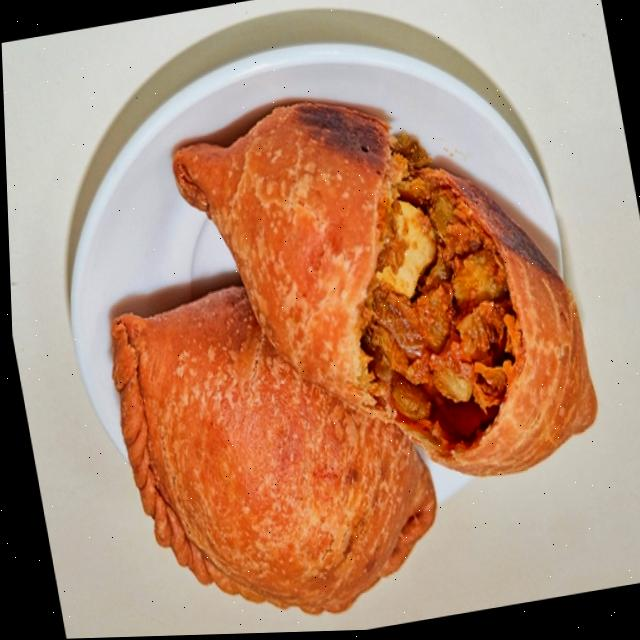炸货点心: (10, 0, 640, 640)
